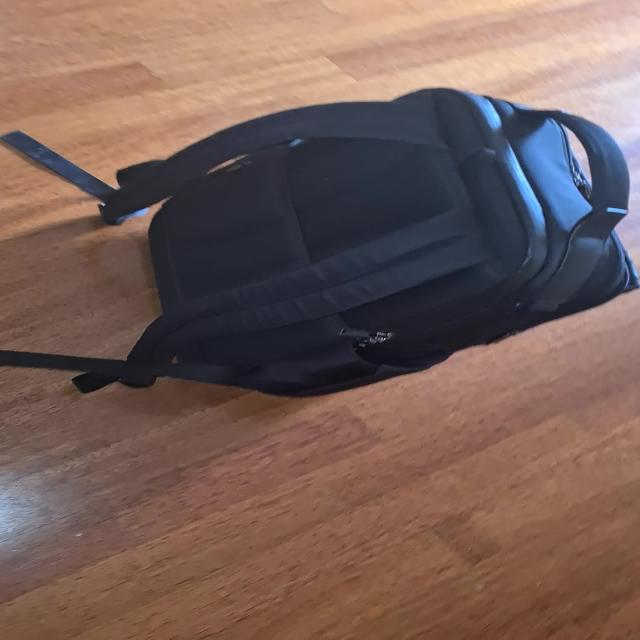backpack: (108, 75, 640, 403)
